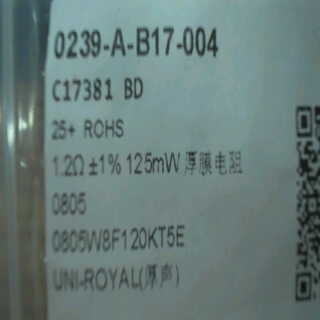1.2R: (48, 152, 87, 216)
